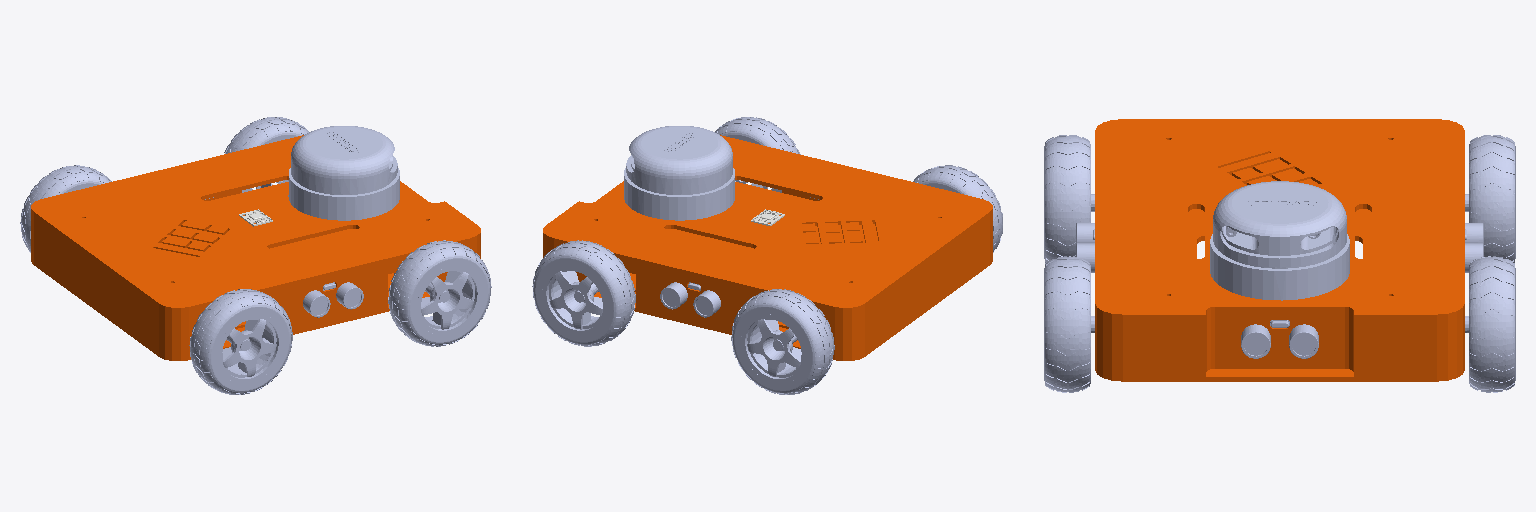
URDF robot description (milestone2_robot):
<?xml version="1.0" encoding="utf-8"?>
<!-- This URDF was automatically created by SolidWorks to URDF Exporter! Originally created by [author] ([email redacted]) 
     Commit Version: 1.6.0-4-g7f85cfe  Build Version: 1.6.7995.38578
     For more information, please see http://wiki.ros.org/sw_urdf_exporter -->
<robot
  name="milestone2_robot">
  <link
    name="base_link">
    <inertial>
      <origin
        xyz="-0.0185551553604413 8.98921448433398E-06 -0.00732007406833168"
        rpy="0 0 0" />
      <mass
        value="0.32673937885095" />
      <inertia
        ixx="0.00128436380730563"
        ixy="5.22949659393556E-07"
        ixz="2.88323337445004E-06"
        iyy="0.00199506204789055"
        iyz="-4.28094806808404E-08"
        izz="0.00324543983807175" />
    </inertial>
    <visual>
      <origin
        xyz="0 0 0"
        rpy="0 0 0" />
      <geometry>
        <mesh
          filename="package://milestone2_robot/meshes/base_link.STL" />
      </geometry>
      <material
        name="">
        <color
          rgba="0.972549019607843 0.43921568627451 0.0588235294117647 1" />
      </material>
    </visual>
    <collision>
      <origin
        xyz="0 0 0"
        rpy="0 0 0" />
      <geometry>
        <mesh
          filename="package://milestone2_robot/meshes/base_link.STL" />
      </geometry>
    </collision>
  </link>
  <link
    name="front_right">
    <inertial>
      <origin
        xyz="8.3066E-08 0.006116 -1.0191E-07"
        rpy="0 0 0" />
      <mass
        value="0.030153" />
      <inertia
        ixx="1.3543E-05"
        ixy="-2.1848E-10"
        ixz="7.5064E-11"
        iyy="2.2528E-05"
        iyz="-3.1083E-10"
        izz="1.3543E-05" />
    </inertial>
    <visual>
      <origin
        xyz="0 0 0"
        rpy="0 0 0" />
      <geometry>
        <mesh
          filename="package://milestone2_robot/meshes/front_right.STL" />
      </geometry>
      <material
        name="">
        <color
          rgba="0.79216 0.81961 0.93333 1" />
      </material>
    </visual>
    <collision>
      <origin
        xyz="0 0 0"
        rpy="0 0 0" />
      <geometry>
        <mesh
          filename="package://milestone2_robot/meshes/front_right.STL" />
      </geometry>
    </collision>
  </link>
  <joint
    name="front_right_joint"
    type="continuous">
    <origin
      xyz="0.061391 -0.12147 -0.015218"
      rpy="0 0 0" />
    <parent
      link="base_link" />
    <child
      link="front_right" />
    <axis
      xyz="0 -1 0" />
  </joint>
  <link
    name="front_left">
    <inertial>
      <origin
        xyz="-1.1259E-07 -0.006116 6.8694E-08"
        rpy="0 0 0" />
      <mass
        value="0.030153" />
      <inertia
        ixx="1.3543E-05"
        ixy="2.774E-10"
        ixz="7.9895E-11"
        iyy="2.2528E-05"
        iyz="2.5952E-10"
        izz="1.3543E-05" />
    </inertial>
    <visual>
      <origin
        xyz="0 0 0"
        rpy="0 0 0" />
      <geometry>
        <mesh
          filename="package://milestone2_robot/meshes/front_left.STL" />
      </geometry>
      <material
        name="">
        <color
          rgba="0.79216 0.81961 0.93333 1" />
      </material>
    </visual>
    <collision>
      <origin
        xyz="0 0 0"
        rpy="0 0 0" />
      <geometry>
        <mesh
          filename="package://milestone2_robot/meshes/front_left.STL" />
      </geometry>
    </collision>
  </link>
  <joint
    name="front_left_joint"
    type="continuous">
    <origin
      xyz="0.061371 0.12143 -0.0152"
      rpy="0 0 0" />
    <parent
      link="base_link" />
    <child
      link="front_left" />
    <axis
      xyz="0 1 0" />
  </joint>
  <link
    name="rear_right">
    <inertial>
      <origin
        xyz="1.1259E-07 0.006116 6.8694E-08"
        rpy="0 0 0" />
      <mass
        value="0.030153" />
      <inertia
        ixx="1.3543E-05"
        ixy="2.774E-10"
        ixz="-7.9895E-11"
        iyy="2.2528E-05"
        iyz="-2.5952E-10"
        izz="1.3543E-05" />
    </inertial>
    <visual>
      <origin
        xyz="0 0 0"
        rpy="0 0 0" />
      <geometry>
        <mesh
          filename="package://milestone2_robot/meshes/rear_right.STL" />
      </geometry>
      <material
        name="">
        <color
          rgba="0.79216 0.81961 0.93333 1" />
      </material>
    </visual>
    <collision>
      <origin
        xyz="0 0 0"
        rpy="0 0 0" />
      <geometry>
        <mesh
          filename="package://milestone2_robot/meshes/rear_right.STL" />
      </geometry>
    </collision>
  </link>
  <joint
    name="rear_right_joint"
    type="continuous">
    <origin
      xyz="-0.094299 -0.12147 -0.0152"
      rpy="0 0 0" />
    <parent
      link="base_link" />
    <child
      link="rear_right" />
    <axis
      xyz="0 -1 0" />
  </joint>
  <link
    name="rear_left">
    <inertial>
      <origin
        xyz="-8.3066E-08 -0.006116 -1.0191E-07"
        rpy="0 0 0" />
      <mass
        value="0.030153" />
      <inertia
        ixx="1.3543E-05"
        ixy="-2.1848E-10"
        ixz="-7.5064E-11"
        iyy="2.2528E-05"
        iyz="3.1083E-10"
        izz="1.3543E-05" />
    </inertial>
    <visual>
      <origin
        xyz="0 0 0"
        rpy="0 0 0" />
      <geometry>
        <mesh
          filename="package://milestone2_robot/meshes/rear_left.STL" />
      </geometry>
      <material
        name="">
        <color
          rgba="0.79216 0.81961 0.93333 1" />
      </material>
    </visual>
    <collision>
      <origin
        xyz="0 0 0"
        rpy="0 0 0" />
      <geometry>
        <mesh
          filename="package://milestone2_robot/meshes/rear_left.STL" />
      </geometry>
    </collision>
  </link>
  <joint
    name="rear_left_joint"
    type="continuous">
    <origin
      xyz="-0.094319 0.12143 -0.015218"
      rpy="0 0 0" />
    <parent
      link="base_link" />
    <child
      link="rear_left" />
    <axis
      xyz="0 1 0" />
  </joint>
  <link
    name="lidar">
    <inertial>
      <origin
        xyz="-0.027757 0.00015412 -0.012215"
        rpy="0 0 0" />
      <mass
        value="0.16307" />
      <inertia
        ixx="6.0761E-05"
        ixy="2.7477E-08"
        ixz="-2.4121E-07"
        iyy="6.0402E-05"
        iyz="-6.2651E-09"
        izz="0.00010759" />
    </inertial>
    <visual>
      <origin
        xyz="0 0 0"
        rpy="0 0 0" />
      <geometry>
        <mesh
          filename="package://milestone2_robot/meshes/lidar.STL" />
      </geometry>
      <material
        name="">
        <color
          rgba="0.79216 0.81961 0.93333 1" />
      </material>
    </visual>
    <collision>
      <origin
        xyz="0 0 0"
        rpy="0 0 0" />
      <geometry>
        <mesh
          filename="package://milestone2_robot/meshes/lidar.STL" />
      </geometry>
    </collision>
  </link>
  <joint
    name="lidar_joint"
    type="fixed">
    <origin
      xyz="0.079475 -0.0001912 0.043042"
      rpy="0 0 0" />
    <parent
      link="base_link" />
    <child
      link="lidar" />
    <axis
      xyz="0 0 0" />
  </joint>
  <link
    name="mpu">
    <inertial>
      <origin
        xyz="-0.00033795 -0.0002439 -0.0013042"
        rpy="0 0 0" />
      <mass
        value="0.00035125" />
      <inertia
        ixx="9.4569E-09"
        ixy="-2.6879E-13"
        ixz="8.3436E-26"
        iyy="5.2353E-09"
        iyz="-7.9805E-26"
        izz="1.4636E-08" />
    </inertial>
    <visual>
      <origin
        xyz="0 0 0"
        rpy="0 0 0" />
      <geometry>
        <mesh
          filename="package://milestone2_robot/meshes/mpu.STL" />
      </geometry>
      <material
        name="">
        <color
          rgba="0.96471 0.96471 0.95294 1" />
      </material>
    </visual>
    <collision>
      <origin
        xyz="0 0 0"
        rpy="0 0 0" />
      <geometry>
        <mesh
          filename="package://milestone2_robot/meshes/mpu.STL" />
      </geometry>
    </collision>
  </link>
  <joint
    name="mpu_joint"
    type="fixed">
    <origin
      xyz="-0.016366 6.8363E-05 0.014742"
      rpy="0 0 0" />
    <parent
      link="base_link" />
    <child
      link="mpu" />
    <axis
      xyz="0 0 0" />
  </joint>
  <link
    name="ultrasonic_front">
    <inertial>
      <origin
        xyz="-0.0071307 0.012957 -5.3951E-06"
        rpy="0 0 0" />
      <mass
        value="0.0062754" />
      <inertia
        ixx="4.6748E-07"
        ixy="-3.2911E-10"
        ixz="-1.9465E-09"
        iyy="1.7872E-07"
        iyz="-7.2811E-11"
        izz="3.903E-07" />
    </inertial>
    <visual>
      <origin
        xyz="0 0 0"
        rpy="0 0 0" />
      <geometry>
        <mesh
          filename="package://milestone2_robot/meshes/ultrasonic_front.STL" />
      </geometry>
      <material
        name="">
        <color
          rgba="0.79216 0.81961 0.93333 1" />
      </material>
    </visual>
    <collision>
      <origin
        xyz="0 0 0"
        rpy="0 0 0" />
      <geometry>
        <mesh
          filename="package://milestone2_robot/meshes/ultrasonic_front.STL" />
      </geometry>
    </collision>
  </link>
  <joint
    name="ultrasonic_front_joint"
    type="fixed">
    <origin
      xyz="0.10754 -0.013018 -0.0057577"
      rpy="0 0 0" />
    <parent
      link="base_link" />
    <child
      link="ultrasonic_front" />
    <axis
      xyz="0 0 0" />
  </joint>
  <link
    name="ultrasonic_right">
    <inertial>
      <origin
        xyz="0.012957 0.0071307 -5.3951E-06"
        rpy="0 0 0" />
      <mass
        value="0.0062754" />
      <inertia
        ixx="1.7872E-07"
        ixy="3.2911E-10"
        ixz="-7.2811E-11"
        iyy="4.6748E-07"
        iyz="1.9465E-09"
        izz="3.903E-07" />
    </inertial>
    <visual>
      <origin
        xyz="0 0 0"
        rpy="0 0 0" />
      <geometry>
        <mesh
          filename="package://milestone2_robot/meshes/ultrasonic_right.STL" />
      </geometry>
      <material
        name="">
        <color
          rgba="0.79216 0.81961 0.93333 1" />
      </material>
    </visual>
    <collision>
      <origin
        xyz="0 0 0"
        rpy="0 0 0" />
      <geometry>
        <mesh
          filename="package://milestone2_robot/meshes/ultrasonic_right.STL" />
      </geometry>
    </collision>
  </link>
  <joint
    name="ultrasonic_right_joint"
    type="fixed">
    <origin
      xyz="-0.029464 -0.10902 -0.0057577"
      rpy="0 0 0" />
    <parent
      link="base_link" />
    <child
      link="ultrasonic_right" />
    <axis
      xyz="0 0 0" />
  </joint>
  <link
    name="ultrasonic_left">
    <inertial>
      <origin
        xyz="0.013043 -0.0071307 -5.3951E-06"
        rpy="0 0 0" />
      <mass
        value="0.0062754" />
      <inertia
        ixx="1.7872E-07"
        ixy="3.2911E-10"
        ixz="7.2811E-11"
        iyy="4.6748E-07"
        iyz="-1.9465E-09"
        izz="3.903E-07" />
    </inertial>
    <visual>
      <origin
        xyz="0 0 0"
        rpy="0 0 0" />
      <geometry>
        <mesh
          filename="package://milestone2_robot/meshes/ultrasonic_left.STL" />
      </geometry>
      <material
        name="">
        <color
          rgba="0.79216 0.81961 0.93333 1" />
      </material>
    </visual>
    <collision>
      <origin
        xyz="0 0 0"
        rpy="0 0 0" />
      <geometry>
        <mesh
          filename="package://milestone2_robot/meshes/ultrasonic_left.STL" />
      </geometry>
    </collision>
  </link>
  <joint
    name="ultrasonic_left_joint"
    type="fixed">
    <origin
      xyz="-0.029464 0.10898 -0.0057577"
      rpy="0 0 0" />
    <parent
      link="base_link" />
    <child
      link="ultrasonic_left" />
    <axis
      xyz="0 0 0" />
  </joint>
   <gazebo reference="ultrasonic_front">
    <!-- Define a sensor of type "ray" with the name "sonar" -->
    <sensor type="ray" name="sonar">

        <!-- Set the position and orientation of the sensor relative to the reference link (x, y, z, roll, pitch, yaw) -->
        <pose>0 0 0 0 0 0</pose>

        <!-- Enable or disable visualization of the sensor in the Gazebo simulation -->
        <visualize>true</visualize>

        <!-- Set the update rate for the sensor in Hz (how often it updates) -->
        <update_rate>5</update_rate>

        <!-- Define the ray properties of the sensor -->
        <ray>
            <!-- Define the scan parameters for the sensor -->
            <scan>
                <horizontal>
                    <!-- Number of horizontal samples (rays) per scan -->
                    <samples>5</samples>

                    <!-- Resolution of the scan (how fine the angular increments are) -->
                    <resolution>1.0</resolution>

                    <!-- Minimum angle for the horizontal scan in radians -->
                    <min_angle>-0.18</min_angle>

                    <!-- Maximum angle for the horizontal scan in radians -->
                    <max_angle>0.18</max_angle>
                </horizontal>

                <vertical>
                    <!-- Number of vertical samples (rays) per scan -->
                    <samples>5</samples>

                    <!-- Resolution of the vertical scan -->
                    <resolution>1</resolution>

                    <!-- Minimum angle for the vertical scan in radians -->
                    <min_angle>-0.035</min_angle>

                    <!-- Maximum angle for the vertical scan in radians -->
                    <max_angle>0.035</max_angle>
                </vertical>
            </scan>

            <!-- Define the range properties of the sensor -->
            <range>
                <!-- Minimum distance the sensor can measure -->
                <min>0.01</min>

                <!-- Maximum distance the sensor can measure -->
                <max>4</max>

                <!-- Resolution of the distance measurements -->
                <resolution>0.01</resolution>
            </range>
        </ray>

        <!-- Attach a Gazebo plugin for interfacing with ROS -->
        <plugin filename="libgazebo_ros_range.so" name="gazebo_ros_range">
            <!-- Gaussian noise added to the sensor readings -->
            <gaussianNoise>0.005</gaussianNoise>

            <!-- Always keep the sensor active -->
            <alwaysOn>true</alwaysOn>

            <!-- Update rate for the sensor in Hz -->
            <updateRate>5</updateRate>

            <!-- ROS topic name where the sensor data will be published -->
            <topicName>/ultrasonic_front/sonar</topicName>

            <!-- Frame name for the sensor, used for transformations -->
            <frameName>ultrasonic_front</frameName>

            <!-- Field of view of the sensor in radians -->
            <fov>0.5</fov>

            <!-- Type of radiation emitted by the sensor (here, 'ultrasound' for an ultrasonic sensor) -->
            <radiation>ultrasound</radiation>
        </plugin>
    </sensor>
</gazebo> 
<gazebo>
  <plugin name="skid_steer_drive_controller" filename="libgazebo_ros_skid_steer_drive.so">
    <!-- Update rate of the plugin in Hz -->
    <updateRate>100.0</updateRate>

    <!-- Namespace for the robot in ROS -->
    <robotNamespace>/</robotNamespace>

    <!-- Names of the joints controlling each wheel -->
    
    <rightFrontJoint>front_right_joint</rightFrontJoint>
    <leftFrontJoint>front_left_joint</leftFrontJoint>
    <rightRearJoint>rear_right_joint</rightRearJoint>
    <leftRearJoint>rear_left_joint</leftRearJoint>
    

    <!-- Distance between the front and rear wheels -->
    <wheelSeparation>0.45</wheelSeparation>

    <!-- Diameter of the wheels -->
    <wheelDiameter>0.18</wheelDiameter>

    <!-- Frame of reference for the robot's base -->
    <robotBaseFrame>base_link</robotBaseFrame>

    <!-- Maximum torque applied to the wheels -->
    <torque>20</torque>

    <!-- ROS topic for receiving velocity commands -->
    <topicName>cmd_vel</topicName>

    <!-- Whether to broadcast the transform from the base frame to the wheels -->
    <broadcastTF>false</broadcastTF>

    <commandTopic>cmd_vel</commandTopic>

    <odometryTopic>odom</odometryTopic>
    <odometryFrame>odom</odometryFrame>
    <covariance_x>0.000100</covariance_x>
    <covariance_y>0.000100</covariance_y>
    <covariance_yaw>0.010000</covariance_yaw>
  </plugin>
</gazebo>
</robot>

--- What the picture shows (computed from the rendered views, not written in the file) ---
The picture shows the robot from 3 angles, left to right: view 1: azimuth 30°, elevation 25°; view 2: azimuth 150°, elevation 25°; view 3: azimuth 270°, elevation 25°; orthographic projection.
Robot: milestone2_robot — 10 links, 9 joints (4 continuous, 5 fixed); root link base_link; default pose: all joints at 0.
Visible links, largest first — view 1: base_link, lidar, front_right, rear_right, rear_left, front_left, ultrasonic_right; view 2: base_link, lidar, front_left, rear_left, rear_right, front_right, ultrasonic_left; view 3: base_link, lidar, front_left, front_right, rear_right, rear_left, ultrasonic_front, ultrasonic_right, ultrasonic_left.
Boxes of the visible links, <box> form: base_link: <box>31,135,480,360</box>; lidar: <box>288,126,399,220</box>; front_right: <box>388,240,491,346</box>; rear_right: <box>189,289,292,394</box>; rear_left: <box>20,165,111,252</box>; front_left: <box>224,117,308,192</box>; ultrasonic_right: <box>303,282,363,317</box>; base_link: <box>543,135,992,360</box>; lidar: <box>624,126,734,220</box>; front_left: <box>532,240,635,346</box>; rear_left: <box>731,289,834,394</box>; rear_right: <box>913,165,1002,252</box>; front_right: <box>715,117,800,192</box>; ultrasonic_left: <box>660,282,720,317</box>; base_link: <box>1095,119,1464,381</box>; lidar: <box>1210,181,1349,300</box>; front_left: <box>1465,256,1515,392</box>; front_right: <box>1044,256,1094,392</box>; rear_right: <box>1044,135,1094,263</box>; rear_left: <box>1465,135,1515,263</box>; ultrasonic_front: <box>1241,320,1318,358</box>; ultrasonic_right: <box>1076,223,1094,272</box>; ultrasonic_left: <box>1465,223,1483,272</box>.
Size in the robot's own frame: 0.25 by 0.2546 by 0.1052 metres.
Meshes: 10 distinct files referenced, 10 mesh visuals loaded (10 binary STL).